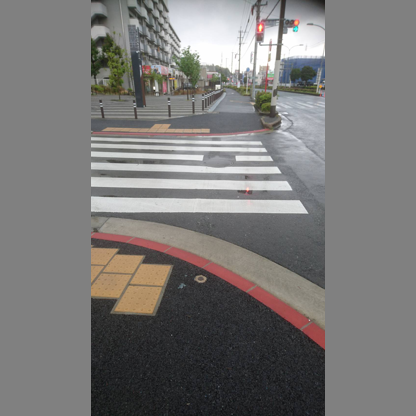brailleblock: (113, 258, 159, 312), (91, 250, 115, 298)
crosswalk: (91, 132, 309, 219)
signal: (254, 19, 265, 43)
